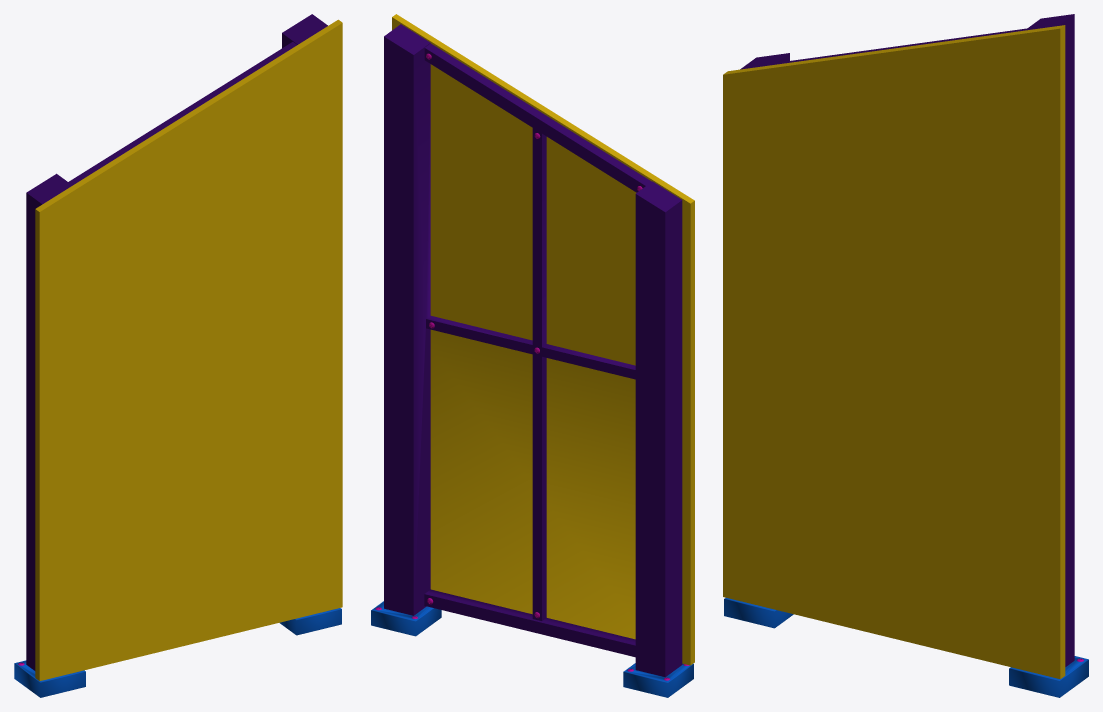
Rendered from Barricade Vol3.FBX.
The picture shows the model from 3 angles, left to right: view 1: azimuth 30°, elevation 25°; view 2: azimuth 150°, elevation 25°; view 3: azimuth 330°, elevation 25°; orthographic projection. The views are drawn at different scales.
Visible parts, largest first — view 1: Barricade Vol 4; view 2: Barricade Vol 4; view 3: Barricade Vol 4.
Part boxes in pixels (<box>): Barricade Vol 4: <box>14,14,342,697</box>; Barricade Vol 4: <box>371,14,694,697</box>; Barricade Vol 4: <box>723,14,1088,697</box>.
Size of the model in its own units: 203 by 385 by 30.59.
